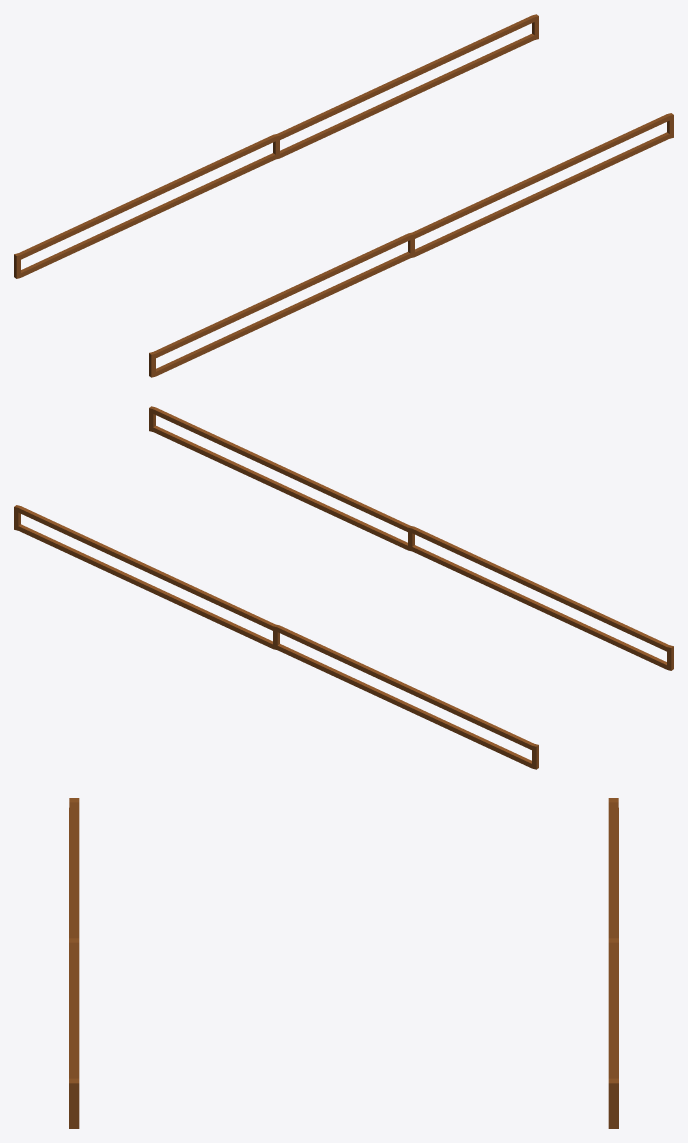
The model's file is 07_BarandalEdificio.fbx.
The picture shows the model from 3 angles, top to bottom: view 1: azimuth 30°, elevation 25°; view 2: azimuth 150°, elevation 25°; view 3: azimuth 270°, elevation 25°; orthographic projection. The views are drawn at different scales.
Visible parts, largest first — view 1: BarandalEdificio; view 2: BarandalEdificio; view 3: BarandalEdificio.
Part boxes in pixels (box(x1,y1,x2,y2)): BarandalEdificio: box(14, 14, 673, 377); BarandalEdificio: box(14, 406, 673, 769); BarandalEdificio: box(69, 798, 618, 1128).
Bounding box in the file's own units: 2097 × 519 × 955.
